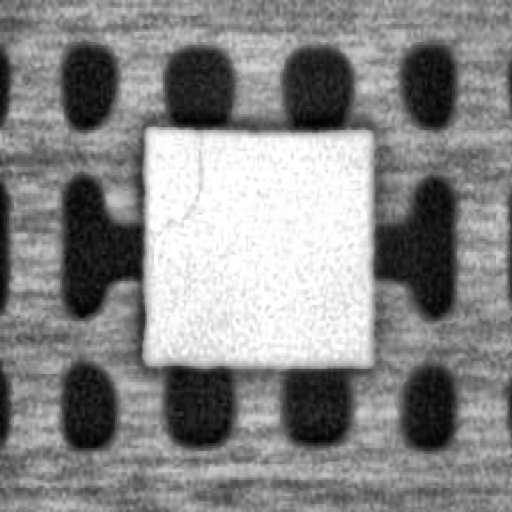DIE_CRACK: (152, 122, 202, 228)
